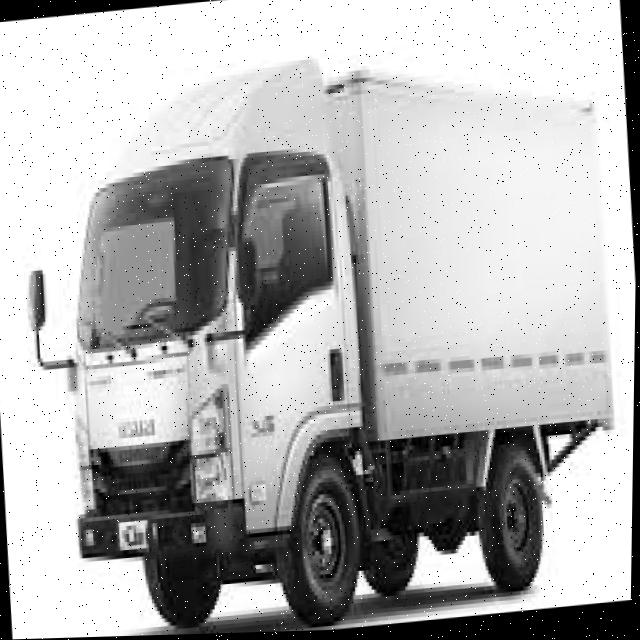truck: (1, 42, 396, 592)
